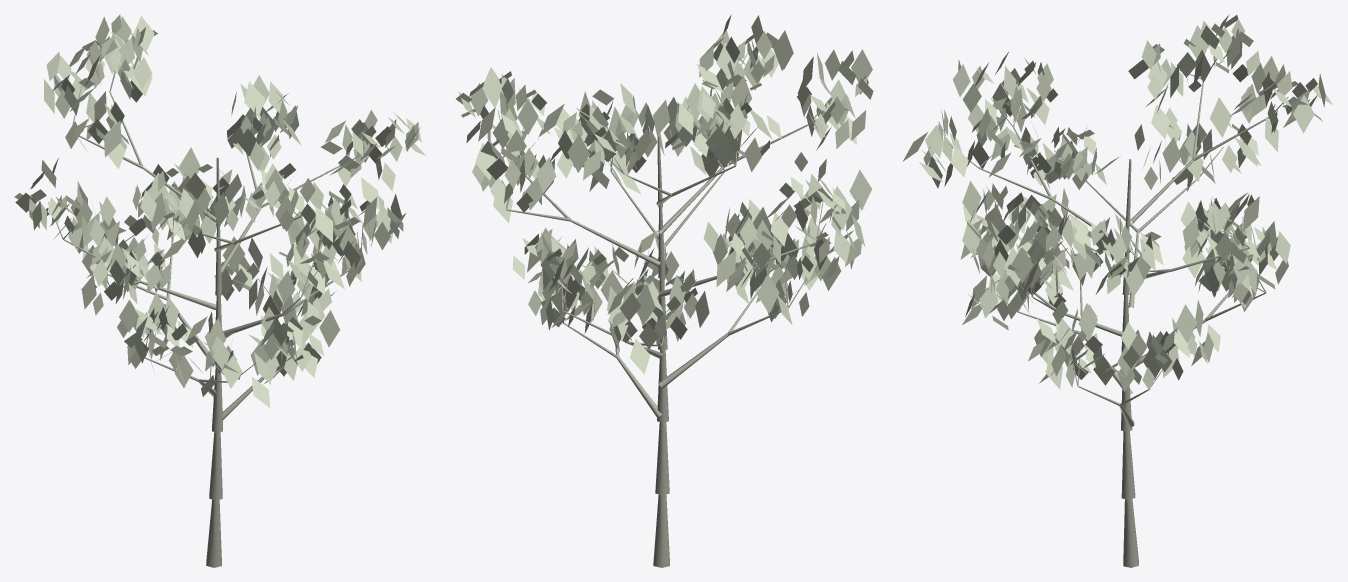
File: sage-tree-b.glb
The picture shows the model from 3 angles, left to right: view 1: azimuth 30°, elevation 25°; view 2: azimuth 150°, elevation 25°; view 3: azimuth 270°, elevation 25°; orthographic projection. The views are drawn at different scales.
Parts seen in each view (by area): view 1: sage-tree-b; view 2: sage-tree-b; view 3: sage-tree-b.
Boxes of the visible parts, box(x1,y1,x2,y2) form: sage-tree-b: box(14, 14, 425, 567); sage-tree-b: box(456, 14, 873, 567); sage-tree-b: box(903, 14, 1332, 567).
Size of the model in its own units: 4599 by 6075 by 4725.
